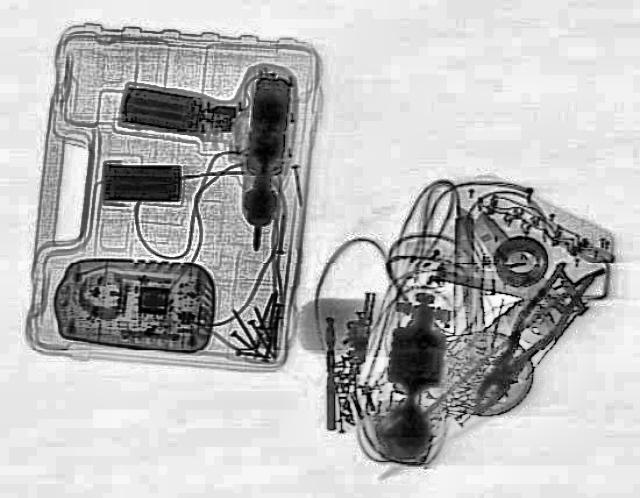Pliers: (452, 256, 604, 422)
